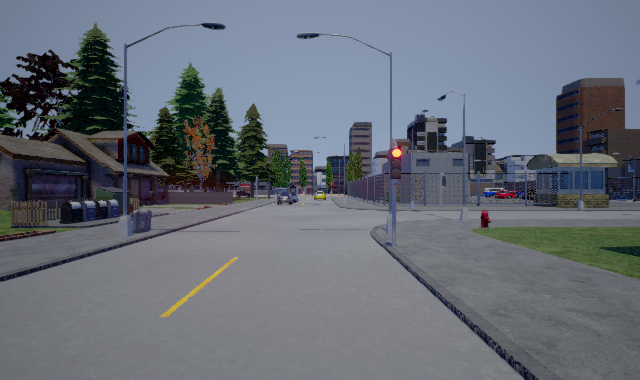traffic_light: (390, 142, 401, 185)
vehicle: (277, 190, 298, 206), (313, 189, 325, 201)
